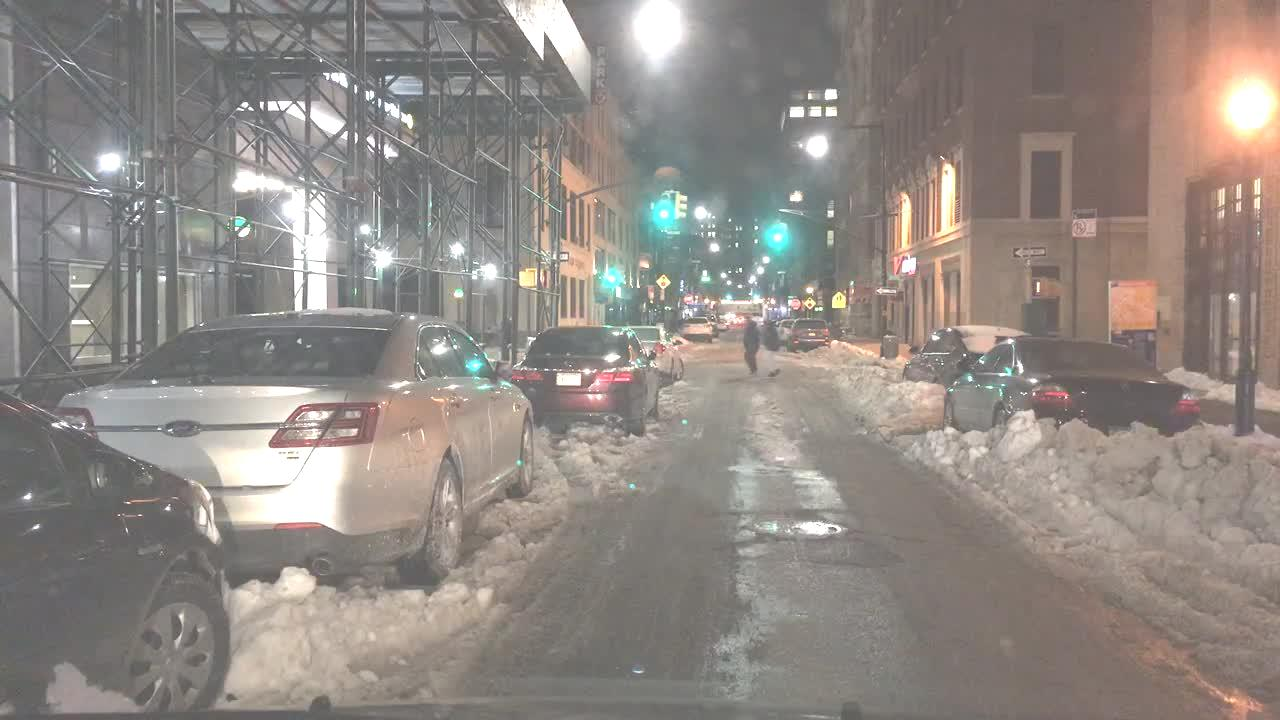ford: (163, 418, 202, 437)
